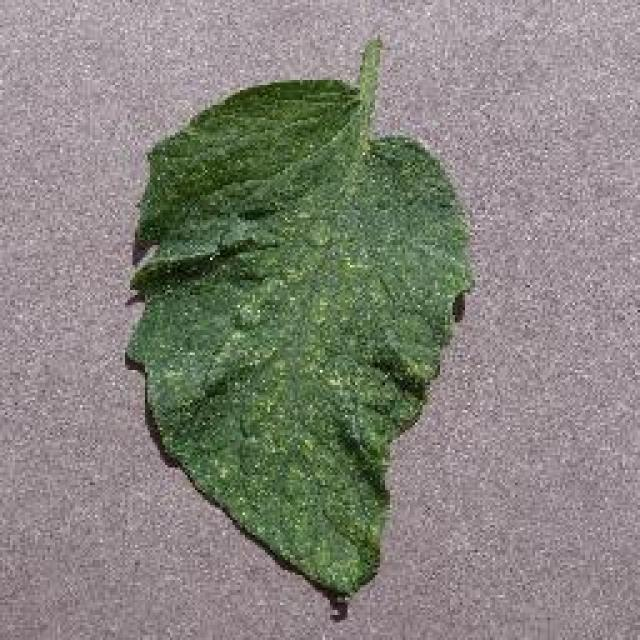Tomato___Spider_mites Two-spotted_spider_mite: (128, 38, 470, 595)
